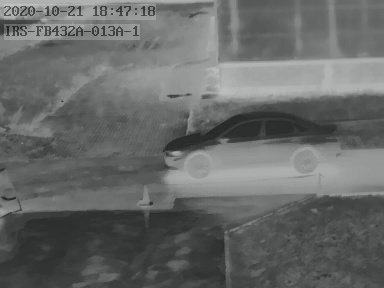vehicle: (164, 109, 339, 175)
